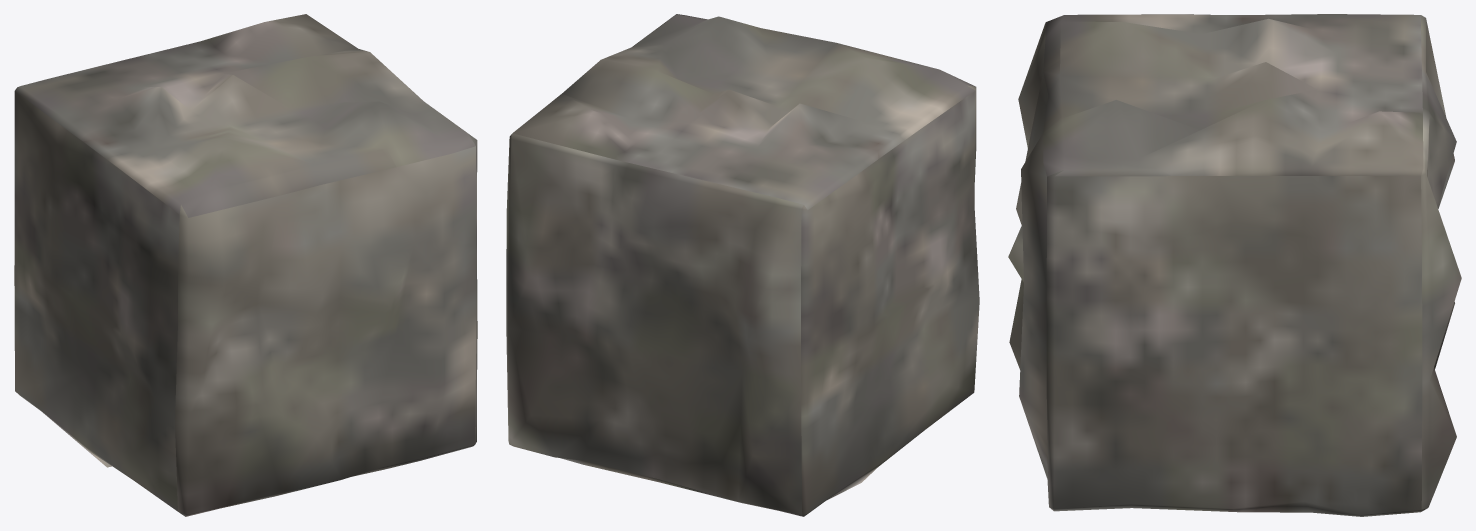
The model's file is tri_stone_high.fbx.
3 renders of one model, left to right at view 1: azimuth 30°, elevation 25°; view 2: azimuth 150°, elevation 25°; view 3: azimuth 270°, elevation 25°, orthographic. The views are drawn at different scales.
Parts seen in each view (by area): view 1: stone_hgih; view 2: stone_hgih; view 3: stone_hgih.
Part boxes in pixels (bbox=[...]): stone_hgih: bbox=[14, 14, 477, 516]; stone_hgih: bbox=[506, 14, 979, 516]; stone_hgih: bbox=[1008, 14, 1461, 516].
Size of the model in its own units: 109 by 118 by 120.
